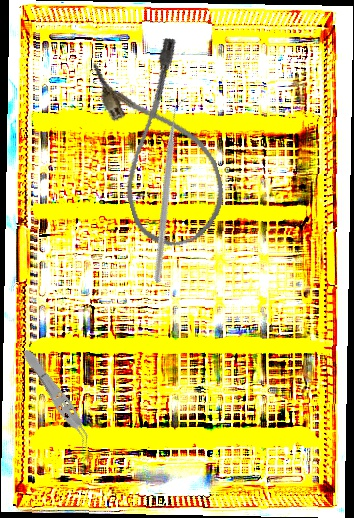Cannula: (88, 34, 236, 257)
Chopper: (89, 97, 255, 284)
Tissue Forceps: (17, 345, 98, 452)
